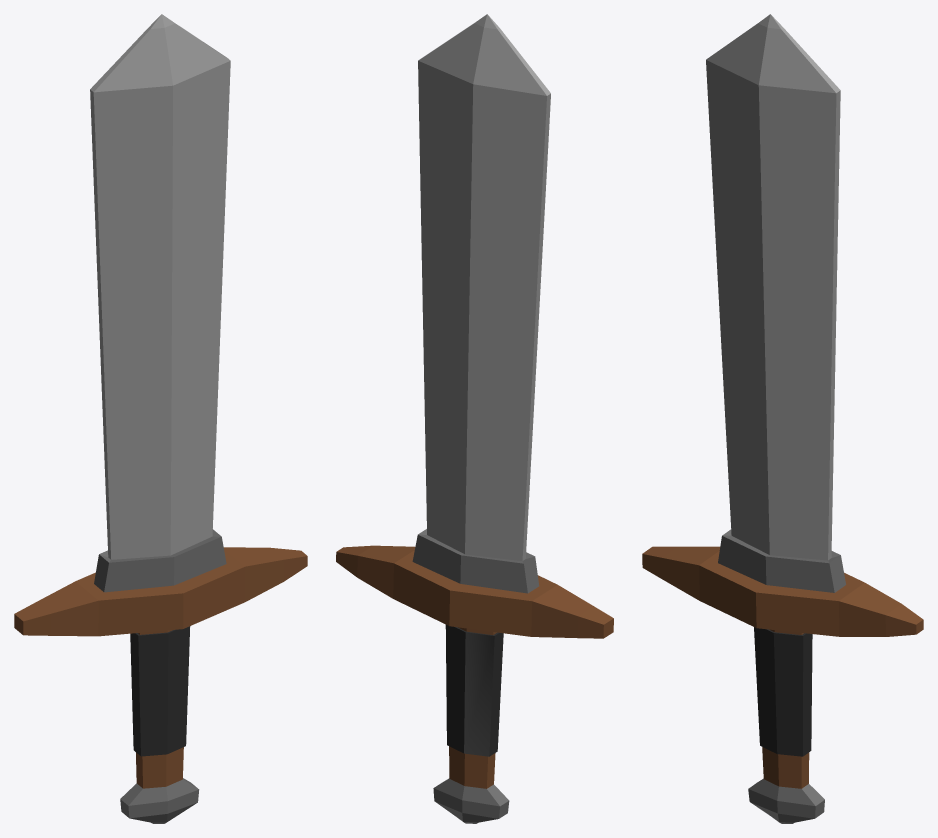
File: sword.fbx
3 views of the same model, side by side, from view 1: azimuth 30°, elevation 25°; view 2: azimuth 150°, elevation 25°; view 3: azimuth 330°, elevation 25° (orthographic).
Visible parts, largest first — view 1: Cylinder; view 2: Cylinder; view 3: Cylinder.
Part boxes in pixels (bbox=[...]): Cylinder: bbox=[14, 14, 307, 823]; Cylinder: bbox=[336, 14, 613, 823]; Cylinder: bbox=[642, 14, 923, 823].
Size of the model in its own units: 655 by 1820 by 202.
